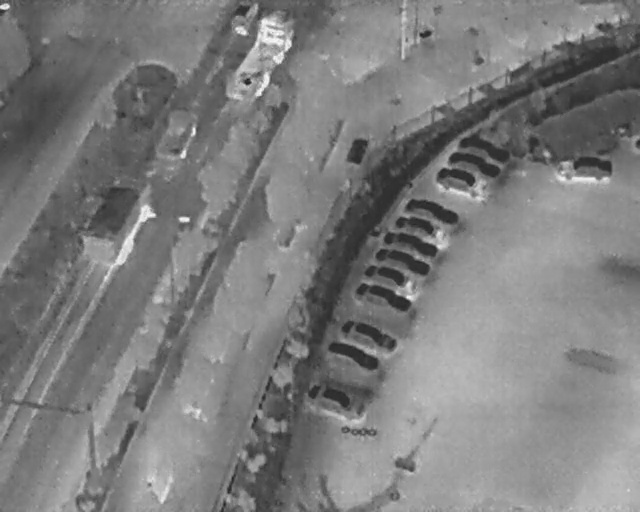Car: (300, 374, 372, 427), (336, 310, 404, 358), (429, 159, 496, 205), (352, 274, 418, 319), (370, 239, 437, 283), (320, 334, 385, 379), (360, 255, 423, 299), (455, 128, 518, 171), (390, 207, 454, 249), (380, 224, 444, 265), (444, 143, 506, 185), (402, 190, 463, 231), (555, 156, 615, 183), (228, 0, 259, 33)
OtherVehicle: (223, 0, 306, 113), (71, 170, 152, 272), (150, 95, 205, 168)
